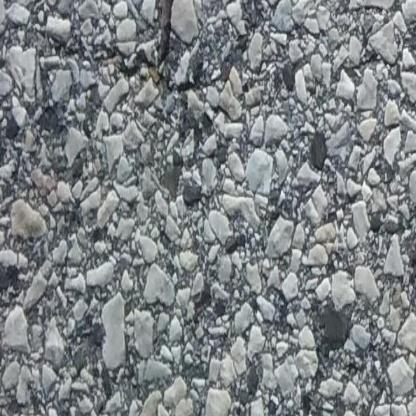Cracks: (120, 0, 188, 77)
